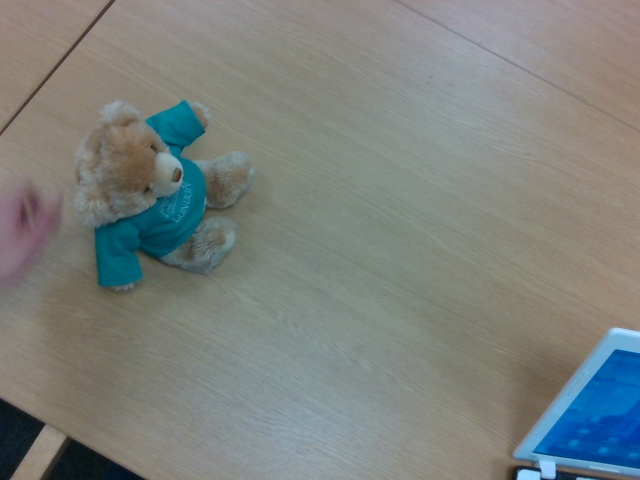teddy: (70, 99, 256, 293)
